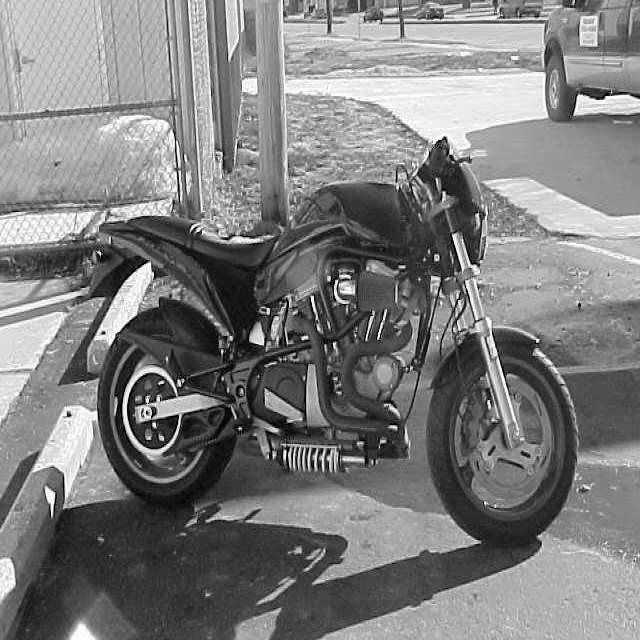Motorcycle: (90, 140, 580, 546)
